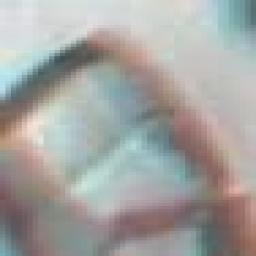crystals: (0, 31, 240, 253)
